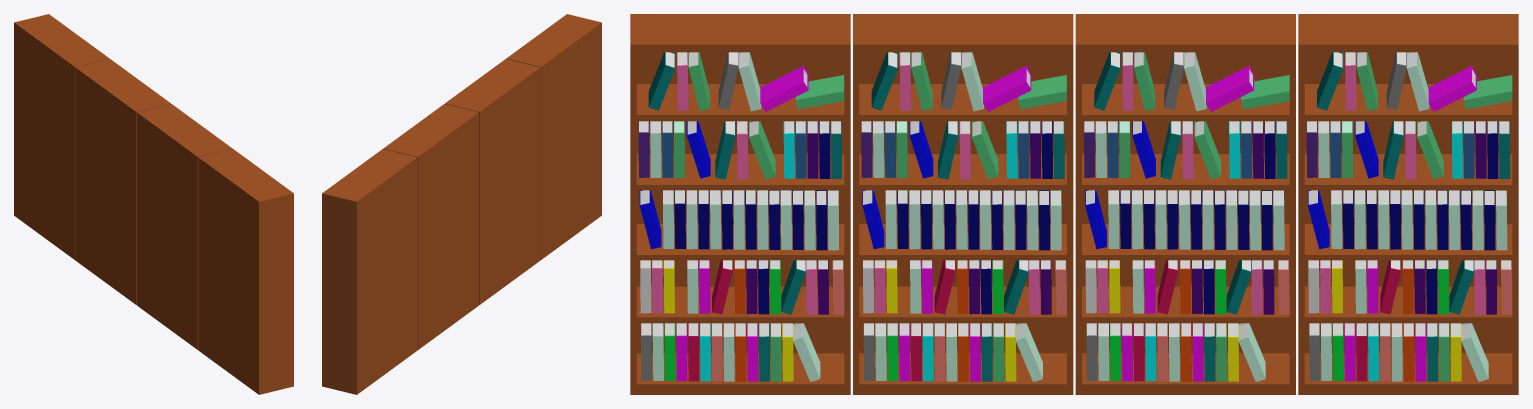
The model's file is BookShelves.glb.
The picture shows the model from 3 angles, left to right: view 1: azimuth 30°, elevation 25°; view 2: azimuth 150°, elevation 25°; view 3: azimuth 270°, elevation 25°; orthographic projection. The views are drawn at different scales.
Parts seen in each view (by area): view 1: BookShelves; view 2: BookShelves; view 3: BookShelves.
Part boxes in pixels (left/top/right/bottom): BookShelves: left=14, top=14, right=293, bottom=394; BookShelves: left=322, top=14, right=601, bottom=394; BookShelves: left=630, top=14, right=1518, bottom=394.
Size of the model in its own units: 1.65 by 8.76 by 20.15.
